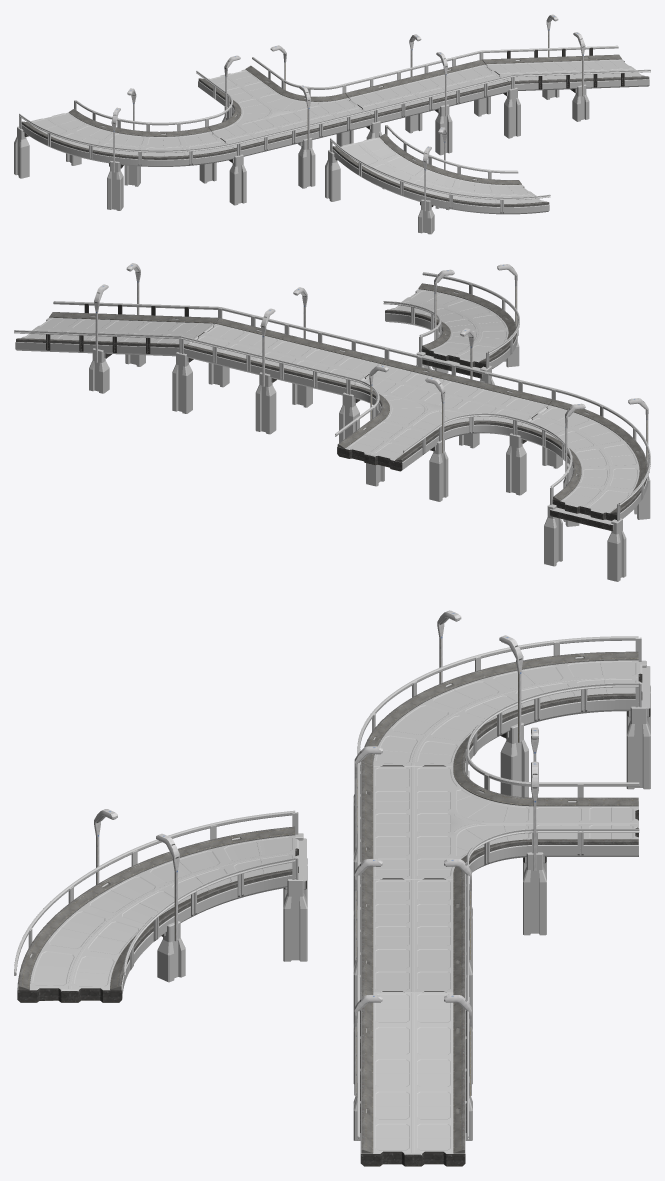
The model's file is KB3D_MTM_StrctrRoadSystem_A.fbx.
3 views of the same model, one above another, from view 1: azimuth 30°, elevation 25°; view 2: azimuth 150°, elevation 25°; view 3: azimuth 270°, elevation 25° (orthographic). The views are drawn at different scales.
Visible parts, largest first — view 1: KB3D_MTM_StrctrRoadSystem_A_CurvedSegment, KB3D_MTM_StrctrRoadSystem_A_Intersection, KB3D_MTM_StrctrRoadSystem_A_CurvedRamp, KB3D_MTM_StrctrRoadSystem_A_StraightSegment, KB3D_MTM_StrctrRoadSystem_A_RampStraight; view 2: KB3D_MTM_StrctrRoadSystem_A_Intersection, KB3D_MTM_StrctrRoadSystem_A_CurvedSegment, KB3D_MTM_StrctrRoadSystem_A_StraightSegment, KB3D_MTM_StrctrRoadSystem_A_RampStraight, KB3D_MTM_StrctrRoadSystem_A_CurvedRamp; view 3: KB3D_MTM_StrctrRoadSystem_A_CurvedRamp, KB3D_MTM_StrctrRoadSystem_A_Intersection, KB3D_MTM_StrctrRoadSystem_A_CurvedSegment, KB3D_MTM_StrctrRoadSystem_A_RampStraight, KB3D_MTM_StrctrRoadSystem_A_StraightSegment.
Part boxes in pixels (x1,y1,x2,y2): KB3D_MTM_StrctrRoadSystem_A_CurvedSegment: (14,88,246,210); KB3D_MTM_StrctrRoadSystem_A_Intersection: (196,45,376,188); KB3D_MTM_StrctrRoadSystem_A_CurvedRamp: (325,125,550,234); KB3D_MTM_StrctrRoadSystem_A_StraightSegment: (336,34,513,155); KB3D_MTM_StrctrRoadSystem_A_RampStraight: (474,14,650,138); KB3D_MTM_StrctrRoadSystem_A_Intersection: (335,328,555,501); KB3D_MTM_StrctrRoadSystem_A_CurvedSegment: (506,388,650,581); KB3D_MTM_StrctrRoadSystem_A_StraightSegment: (180,287,389,442); KB3D_MTM_StrctrRoadSystem_A_RampStraight: (14,263,229,413); KB3D_MTM_StrctrRoadSystem_A_CurvedRamp: (383,264,519,384); KB3D_MTM_StrctrRoadSystem_A_CurvedRamp: (14,809,307,1002); KB3D_MTM_StrctrRoadSystem_A_Intersection: (353,727,639,935); KB3D_MTM_StrctrRoadSystem_A_CurvedSegment: (353,610,650,851); KB3D_MTM_StrctrRoadSystem_A_RampStraight: (353,974,472,1166); KB3D_MTM_StrctrRoadSystem_A_StraightSegment: (353,859,472,1021).
Size of the model in its own units: 20072 by 3357 by 11915.
